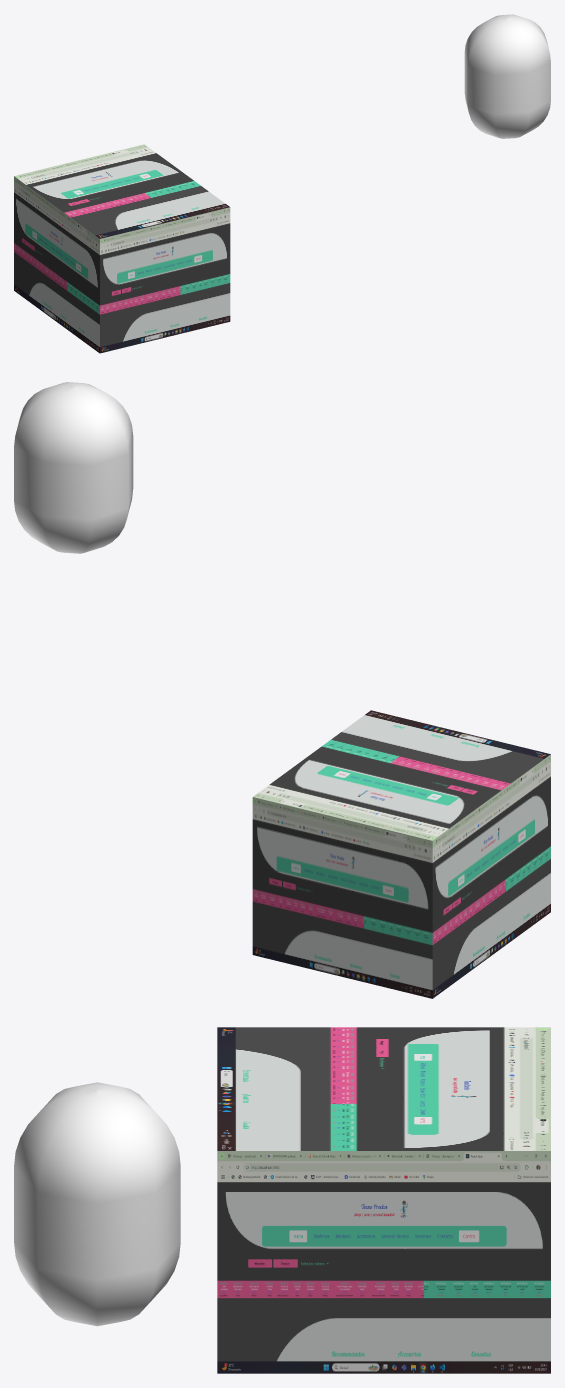
The picture shows the model from 3 angles, top to bottom: view 1: azimuth 30°, elevation 25°; view 2: azimuth 150°, elevation 25°; view 3: azimuth 270°, elevation 25°; orthographic projection. The views are drawn at different scales.
Visible parts, largest first — view 1: Box, Capsule; view 2: Box, Capsule; view 3: Box, Capsule.
Boxes of the visible parts, x1,y1,x2,y2 form: Box: [14, 144, 230, 353]; Capsule: [464, 14, 550, 138]; Box: [252, 710, 550, 998]; Capsule: [14, 382, 133, 553]; Box: [217, 1027, 550, 1373]; Capsule: [14, 1082, 180, 1326].
Size of the model in its own units: 11.2 by 6.83 by 6.44.
Materials: 2 (1 with a texture image).
